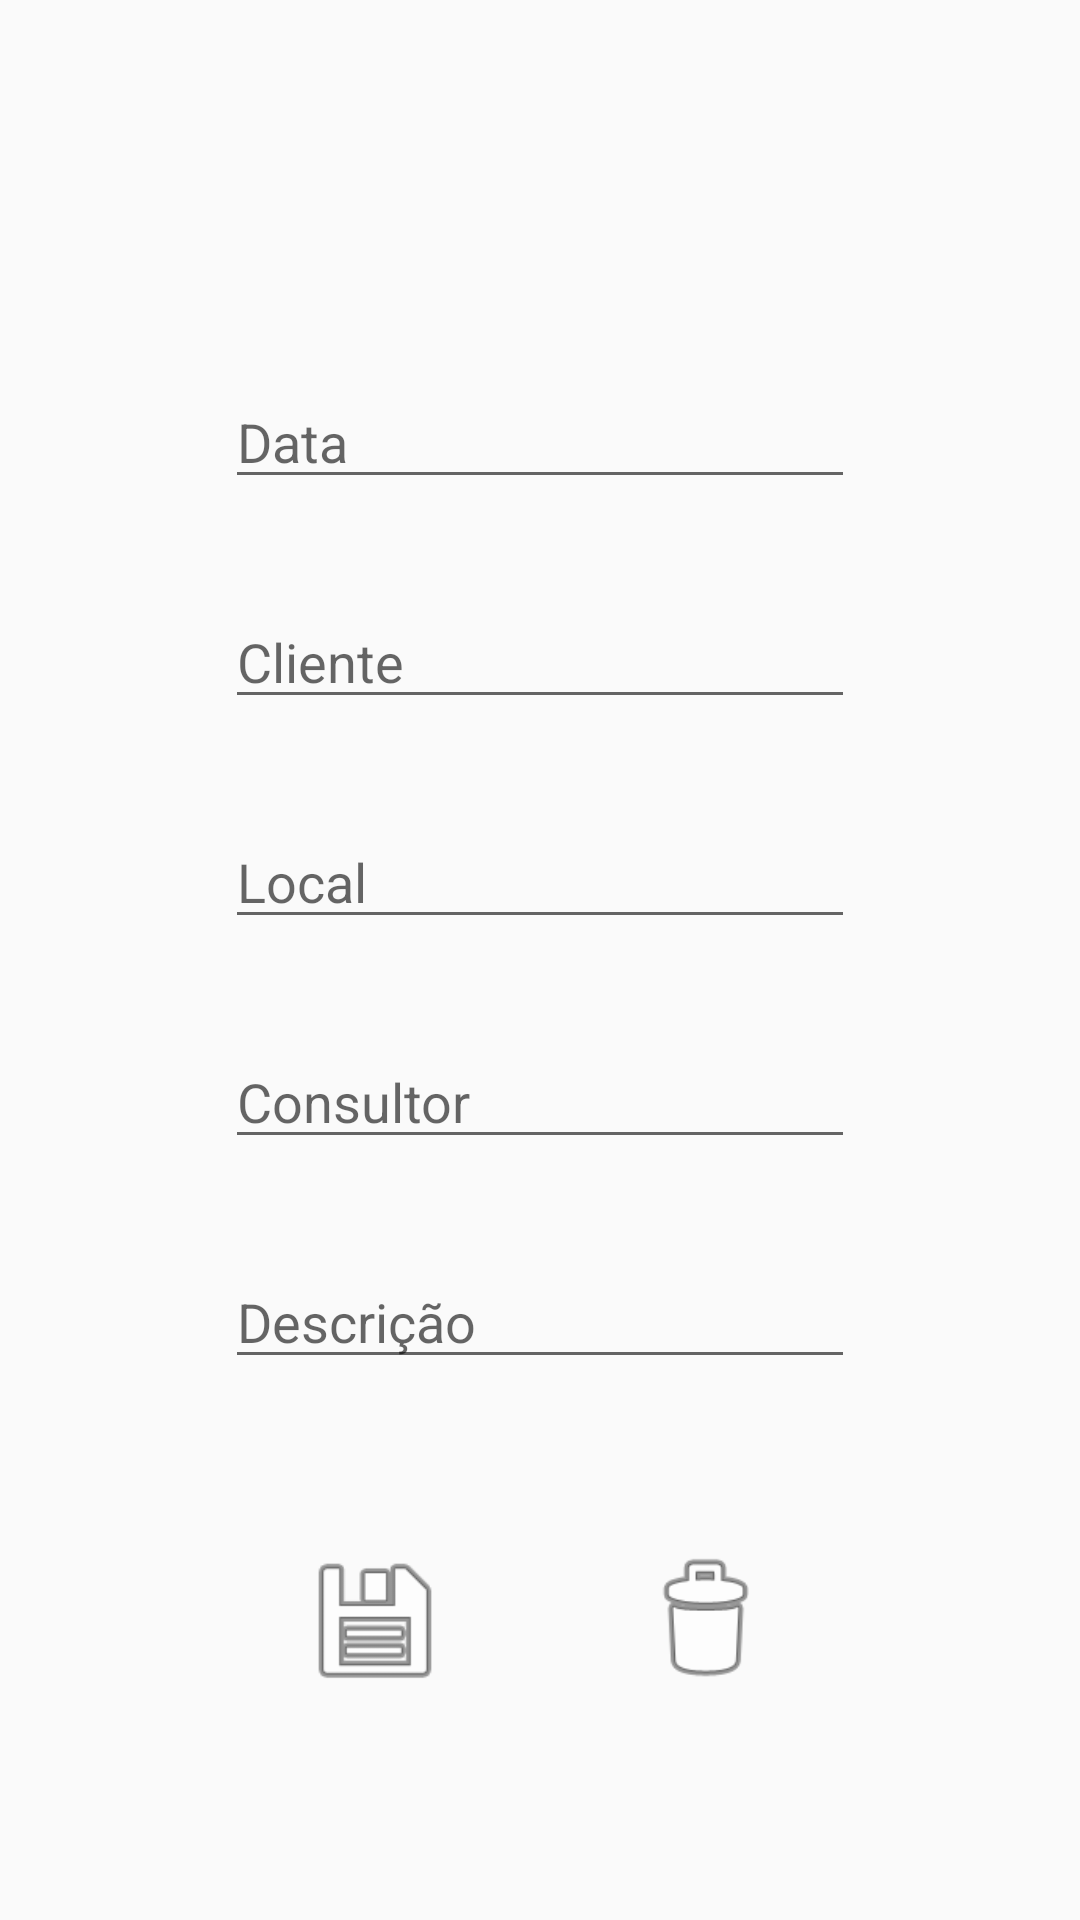

Icon bounding boxes for this 1080*1920 phone screenshot, format (x1, y1, x2, y2):
delete: (663, 1559, 748, 1676)
save: (318, 1563, 432, 1678)
